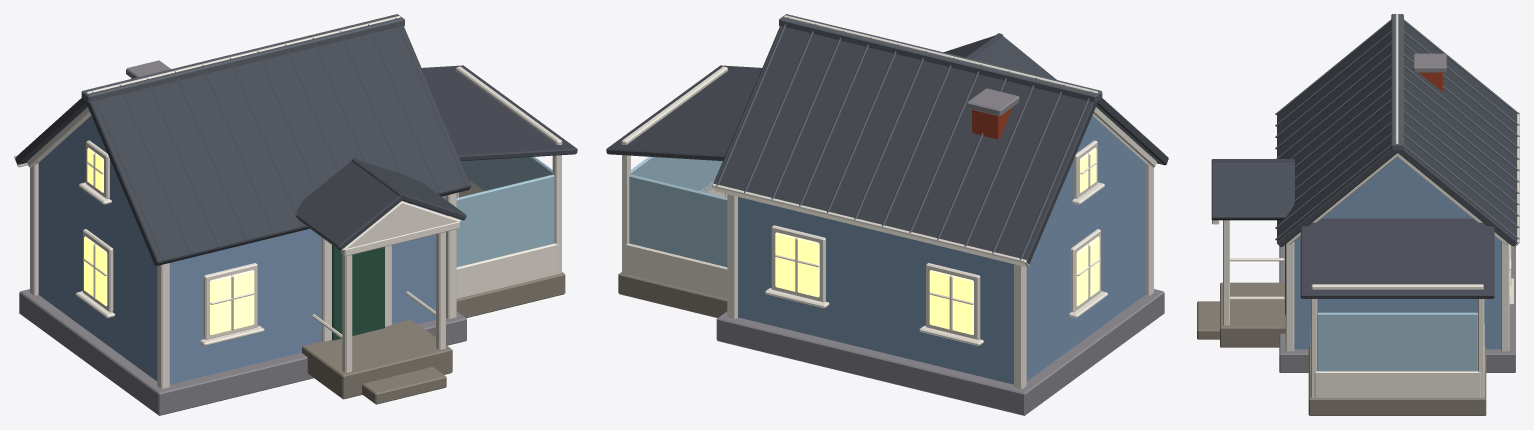
File: blastuga.glb
The picture shows the model from 3 angles, left to right: view 1: azimuth 30°, elevation 25°; view 2: azimuth 150°, elevation 25°; view 3: azimuth 270°, elevation 25°; orthographic projection. The views are drawn at different scales.
Visible parts, largest first — view 1: blastuga; view 2: blastuga; view 3: blastuga.
Boxes of the visible parts, box(x1,y1,x2,y2) form: blastuga: box(14, 14, 577, 415); blastuga: box(606, 14, 1168, 415); blastuga: box(1197, 14, 1519, 415).
Bounding box in the file's own units: 7.91 × 4.75 × 6.
